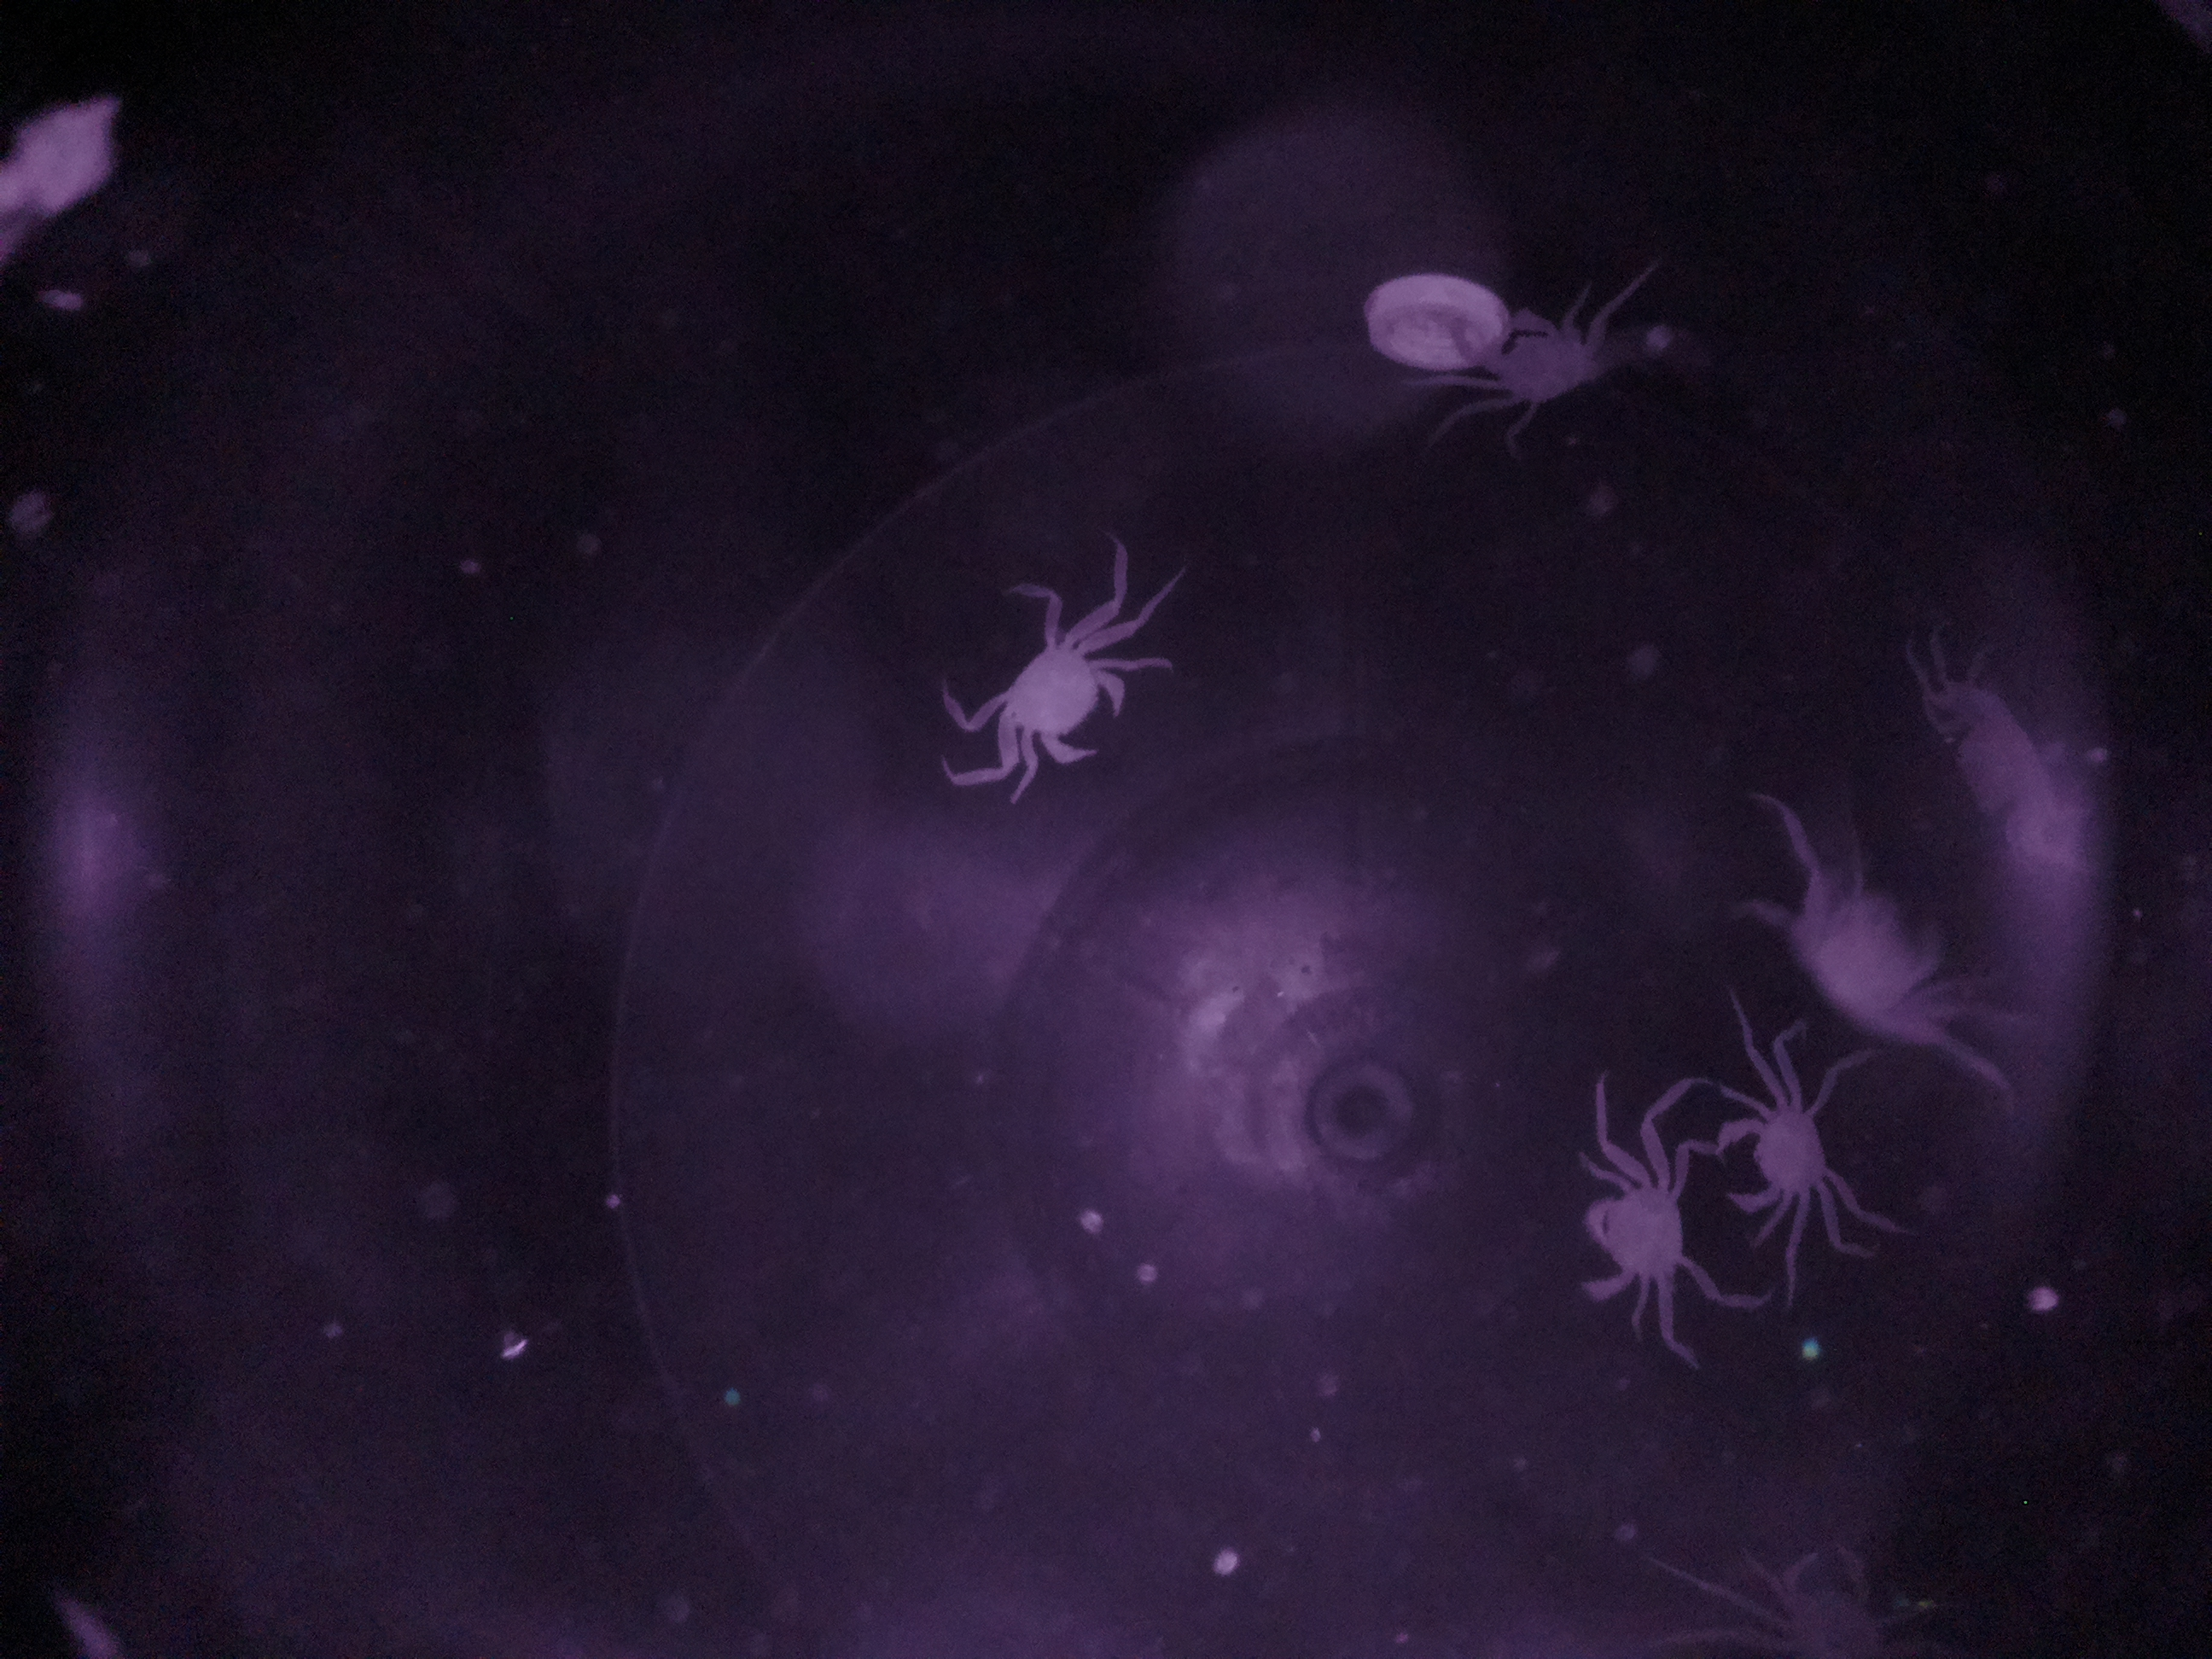Crab: (975, 612, 1146, 781), (1710, 1072, 1857, 1255), (1566, 1127, 1709, 1314)
